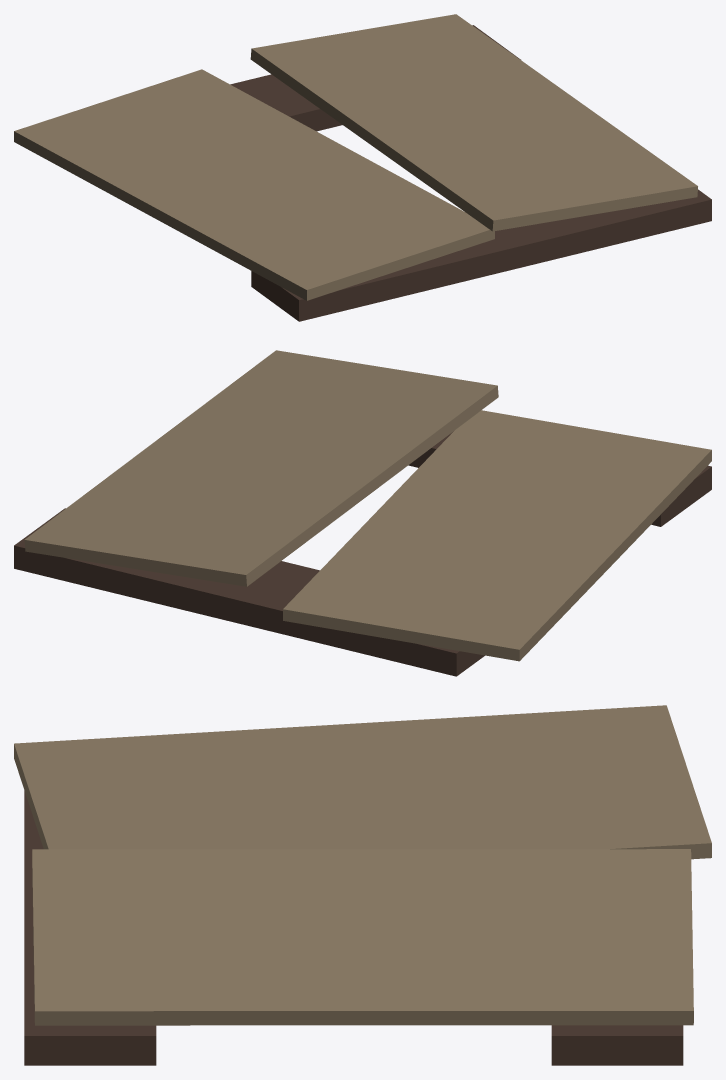
Rendered from WoodenPath.fbx.
3 views of the same model, one above another, from view 1: azimuth 30°, elevation 25°; view 2: azimuth 150°, elevation 25°; view 3: azimuth 270°, elevation 25° (orthographic). The views are drawn at different scales.
Visible parts, largest first — view 1: Cube.002; view 2: Cube.002; view 3: Cube.002.
Boxes of the visible parts, left/top/right/bottom form: Cube.002: left=14, top=14, right=711, bottom=321; Cube.002: left=14, top=350, right=711, bottom=676; Cube.002: left=14, top=705, right=711, bottom=1065.
Size of the model in its own units: 226 by 23.67 by 212.
